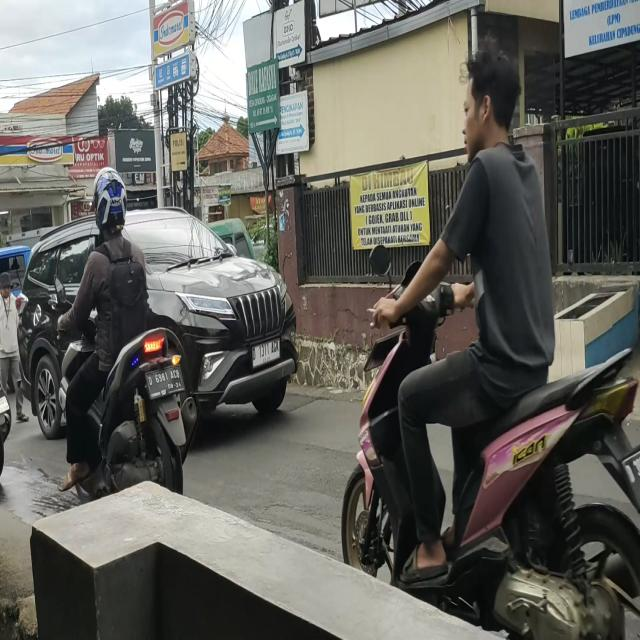helmet: (94, 168, 126, 233)
no-helmet: (465, 50, 516, 146)
